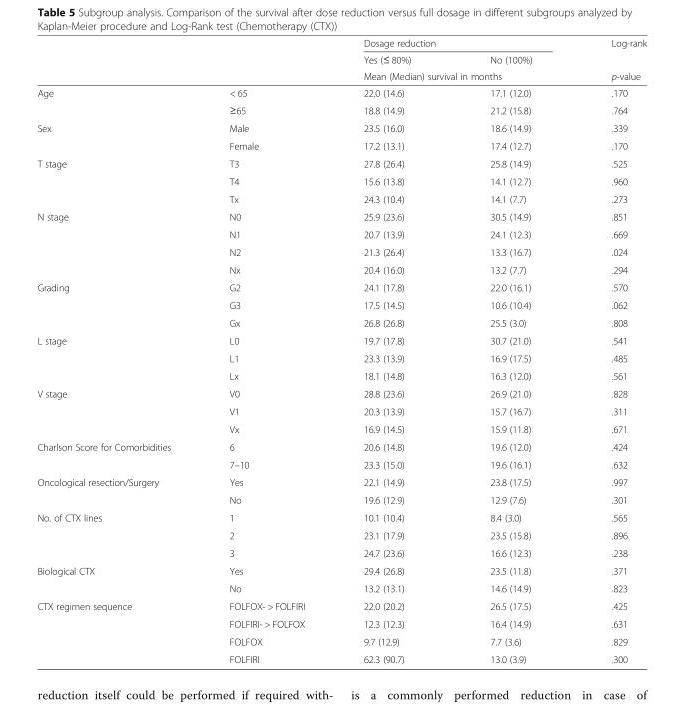table: (36, 37, 645, 664)
table column: (36, 37, 199, 664), (199, 37, 333, 664), (450, 37, 571, 664), (333, 37, 450, 664), (571, 37, 645, 664)
table column header: (36, 37, 645, 84)
table row: (36, 101, 645, 119), (36, 136, 645, 154), (36, 154, 645, 172), (36, 189, 645, 207), (36, 207, 645, 225), (36, 225, 645, 243), (36, 260, 645, 278), (36, 278, 645, 296), (36, 313, 645, 331), (36, 331, 645, 349), (36, 366, 645, 384), (36, 384, 645, 402), (36, 402, 645, 420), (36, 437, 645, 455), (36, 455, 645, 473), (36, 490, 645, 508), (36, 508, 645, 526), (36, 543, 645, 561), (36, 561, 645, 579), (36, 579, 645, 597), (36, 614, 645, 632), (36, 632, 645, 650), (36, 50, 645, 67), (36, 67, 645, 84), (36, 84, 645, 101), (36, 119, 645, 136), (36, 172, 645, 189), (36, 243, 645, 260), (36, 296, 645, 313), (36, 349, 645, 366), (36, 420, 645, 437), (36, 473, 645, 490), (36, 526, 645, 543), (36, 597, 645, 614), (36, 650, 645, 664), (36, 37, 645, 50)
table spanning cell: (36, 207, 199, 278), (36, 597, 199, 664), (36, 154, 199, 207), (36, 278, 199, 331), (36, 331, 199, 384), (36, 384, 199, 437), (36, 508, 199, 561), (36, 437, 199, 473), (36, 561, 199, 597), (36, 84, 199, 119), (36, 119, 199, 154), (36, 473, 199, 508), (333, 67, 571, 84), (571, 37, 645, 84), (333, 37, 571, 50)
